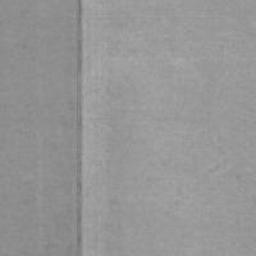Welding line: (74, 0, 86, 256)
